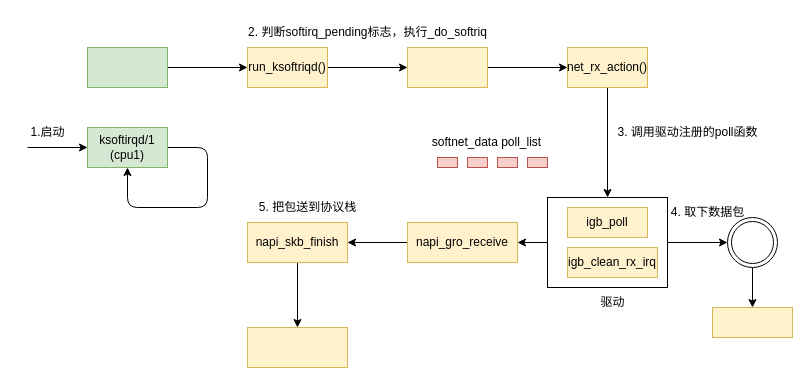
Some shapes in this 810 by 385 pixel diagram are drawn without their labels. Here are the shapes that lost their labels. From the top down, the centre of each, then its label:
At [127,67]: "ksoftirqd/0 (cpu0)".
At [447,67]: "_do_softriqd()".
At [752,322]: "packet".
At [297,347]: "netif_receive_skb".
